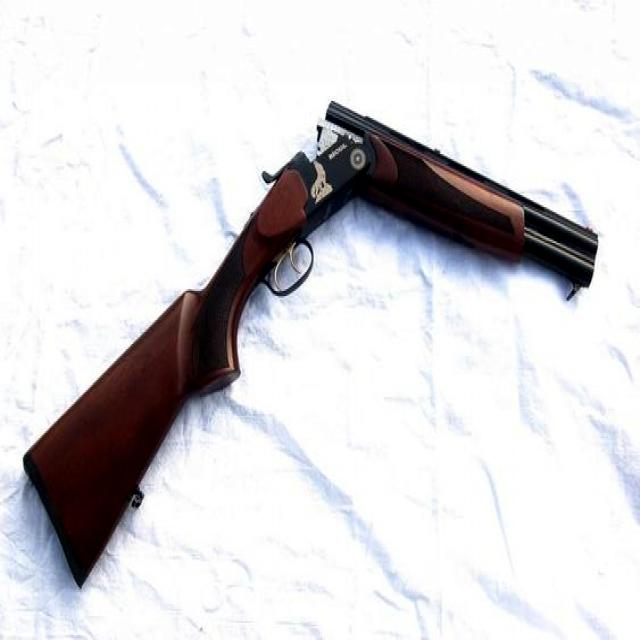shotgun: (1, 30, 605, 608)
